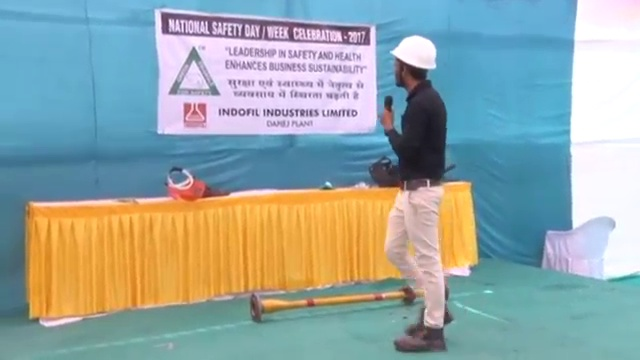helmet: (388, 36, 441, 69)
helmet_on: (387, 36, 442, 89)
person: (383, 33, 449, 356)
